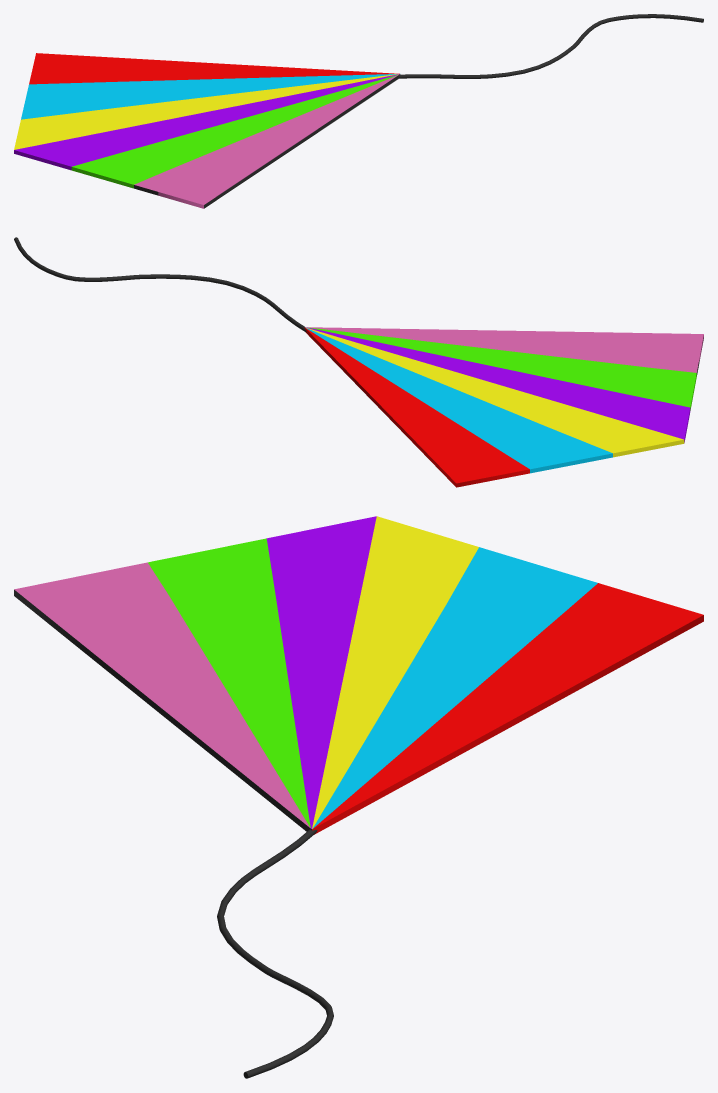
The model's file is Kite.gltf.
The picture shows the model from 3 angles, top to bottom: view 1: azimuth 30°, elevation 25°; view 2: azimuth 150°, elevation 25°; view 3: azimuth 270°, elevation 25°; orthographic projection. The views are drawn at different scales.
Visible parts, largest first — view 1: node-0; view 2: node-0; view 3: node-0.
Part boxes in pixels (x1=…): node-0: x1=14, y1=14, x2=703, y2=208; node-0: x1=14, y1=237, x2=703, y2=487; node-0: x1=14, y1=516, x2=703, y2=1078.
Bounding box in the file's own units: 1051568 × 6488 × 551352.
